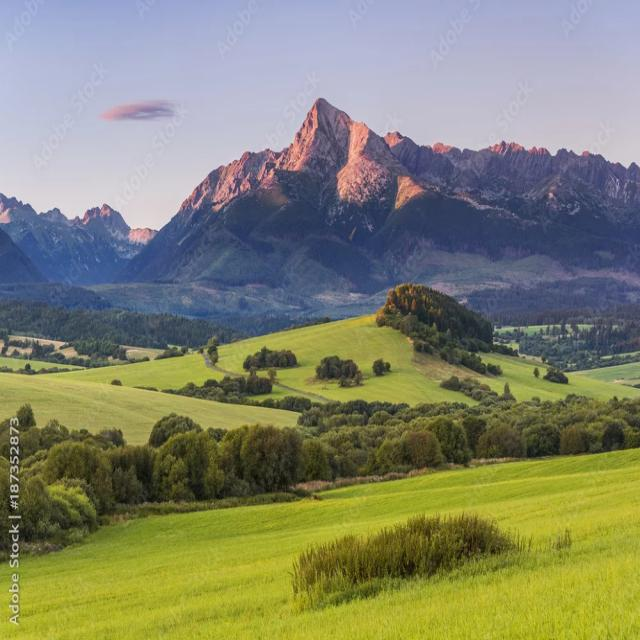Krivan: (268, 42, 374, 158)
